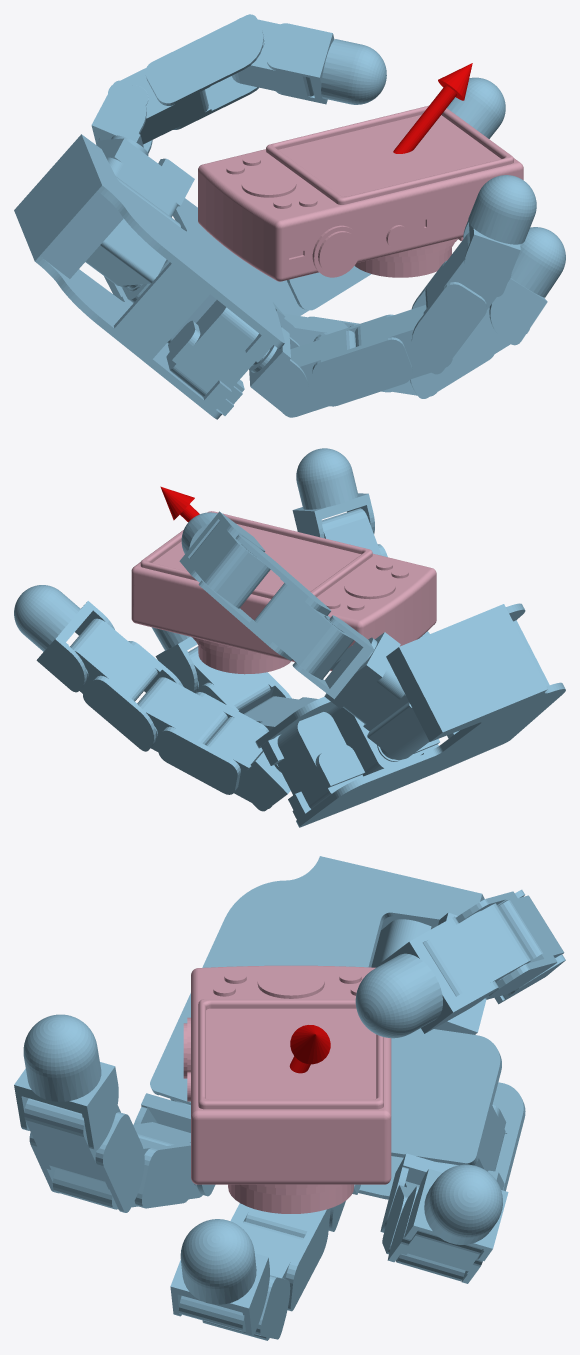
3 views of the same model, one above another, from view 1: azimuth 30°, elevation 25°; view 2: azimuth 150°, elevation 25°; view 3: azimuth 270°, elevation 25° (orthographic). The views are drawn at different scales.
Parts seen in each view (by area): view 1: world, camera.stl; view 2: world, camera.stl; view 3: world, camera.stl.
Boxes of the visible parts, x1,y1,x2,y2 form: world: [14, 14, 565, 419]; camera.stl: [198, 105, 523, 281]; world: [14, 448, 565, 827]; camera.stl: [131, 511, 436, 674]; world: [14, 856, 565, 1340]; camera.stl: [183, 965, 391, 1213].
Bounding box in the file's own units: 0.2351 × 0.1407 × 0.1784.
